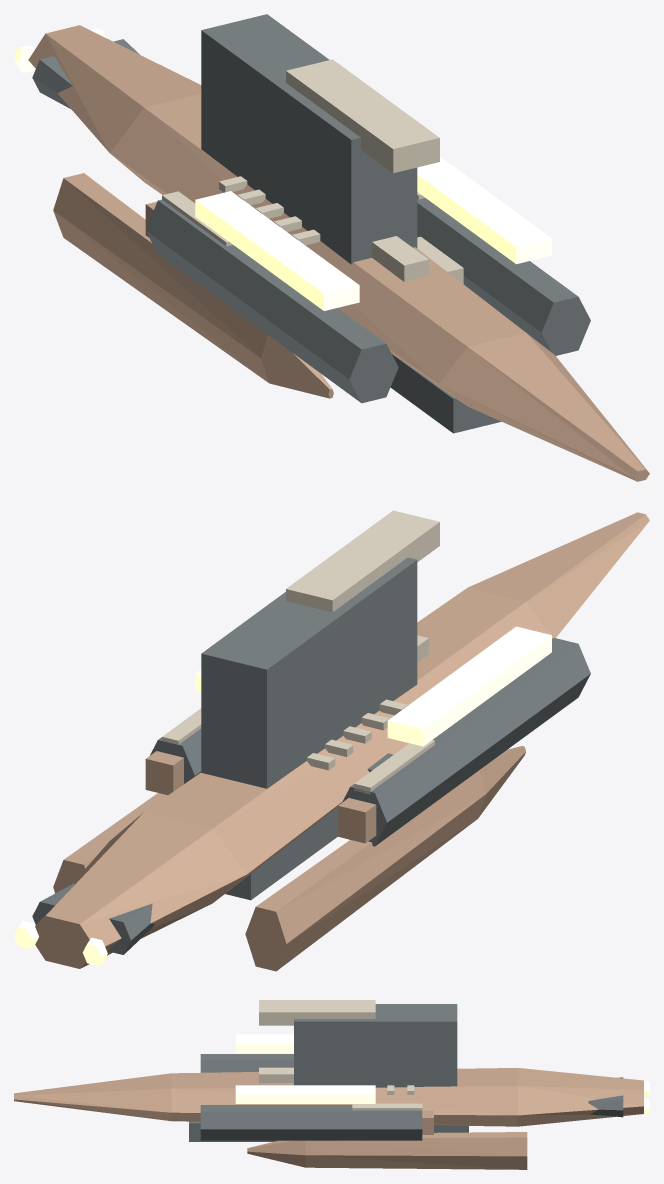
3 views of the same model, one above another, from view 1: azimuth 30°, elevation 25°; view 2: azimuth 150°, elevation 25°; view 3: azimuth 270°, elevation 25° (orthographic). The views are drawn at different scales.
Size of the model in its own units: 2.99 by 2.94 by 12.53.
